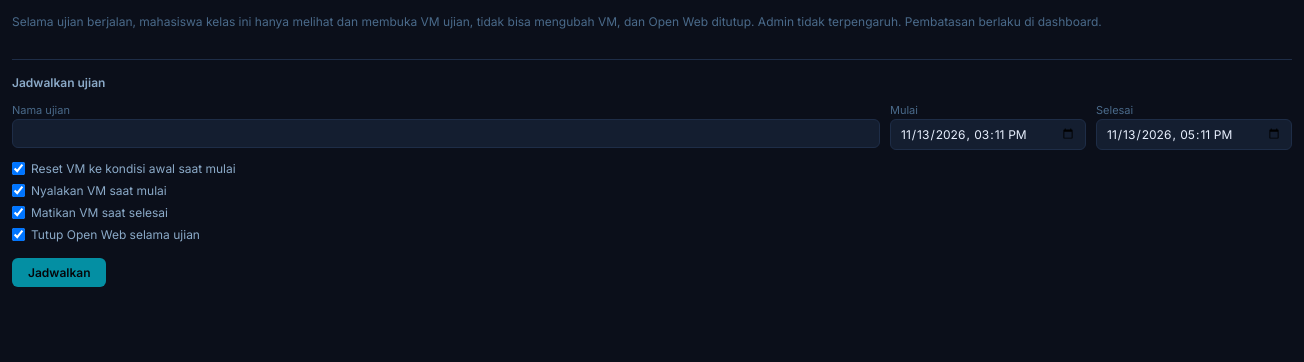
it: ExamsPanel › galat dari server (mis. bentrok jadwal) ditampilkan
Type "X" into the field labelled "Nama ujian" at (446, 133), box left=12, top=119, right=880, bottom=148
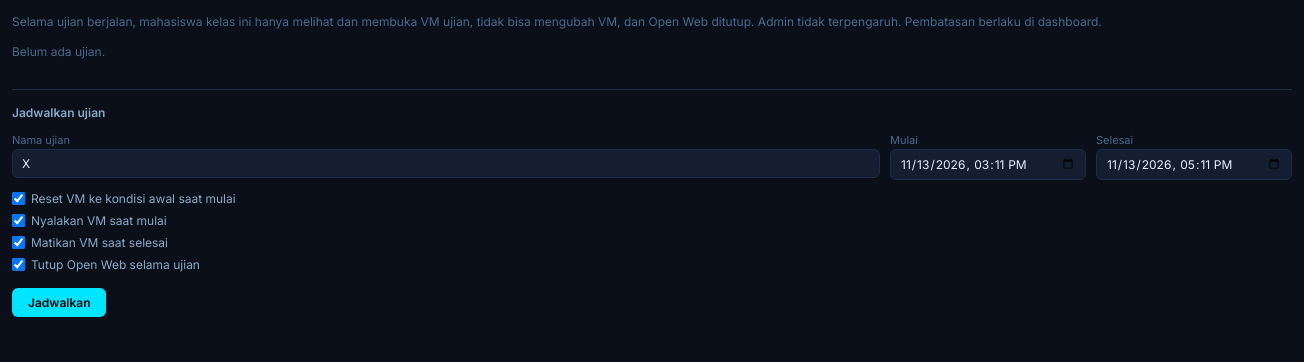
Click the button "Jadwalkan" at (59, 302), box left=12, top=288, right=106, bottom=317
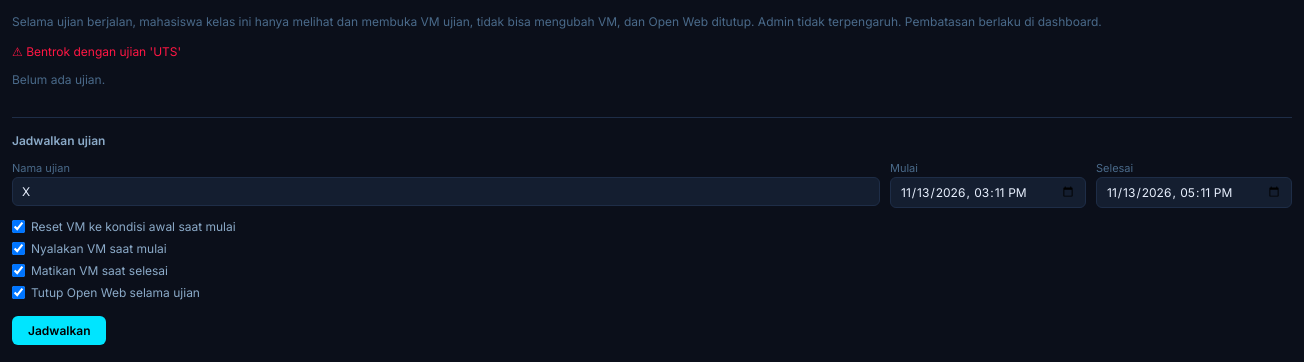
Result: the text "⚠ Bentrok dengan ujian 'UTS'" is shown at left=12, top=44, right=181, bottom=59
